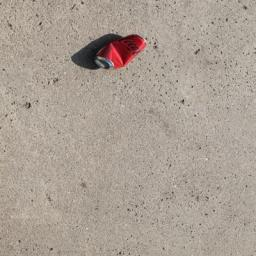FOD: (69, 31, 150, 75)
